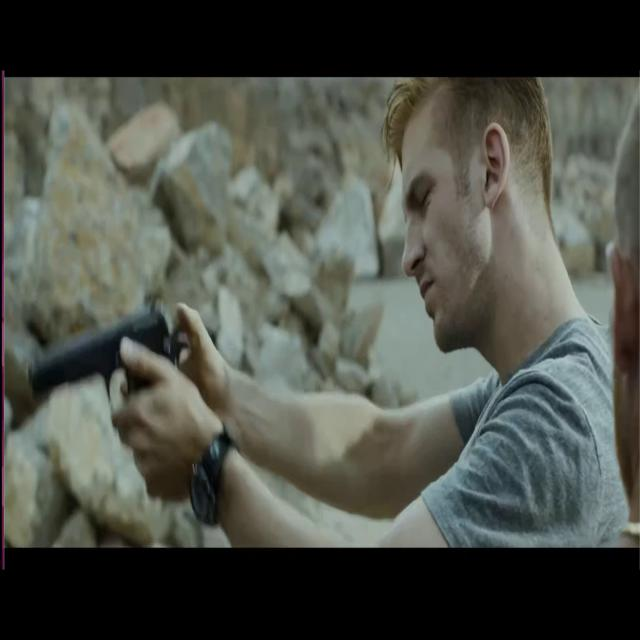weapons: (19, 300, 208, 436)
